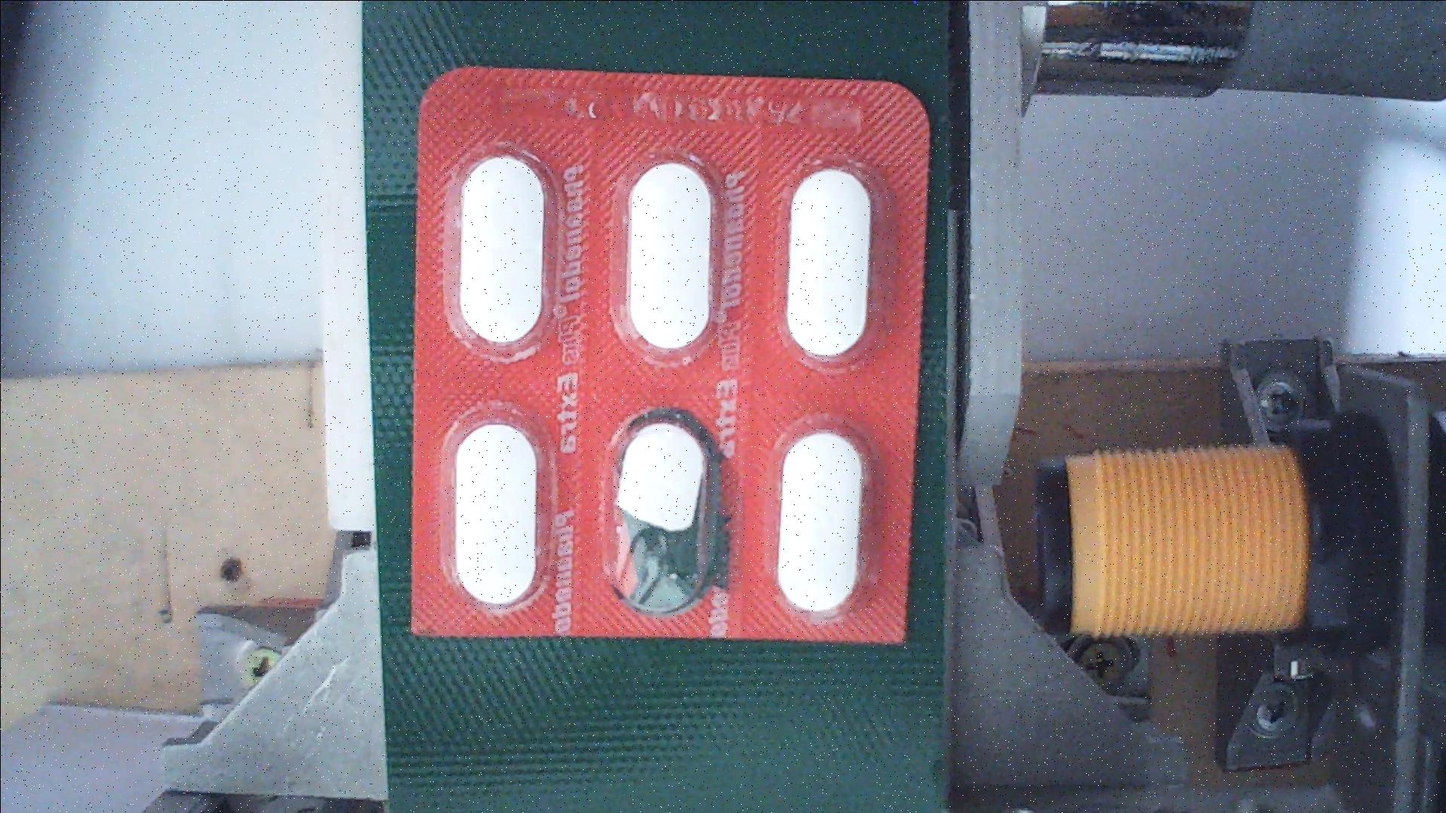Full: (768, 145, 889, 381), (442, 141, 563, 377), (608, 137, 728, 373), (436, 390, 556, 626), (760, 395, 880, 631)
Partial: (600, 391, 721, 627)
